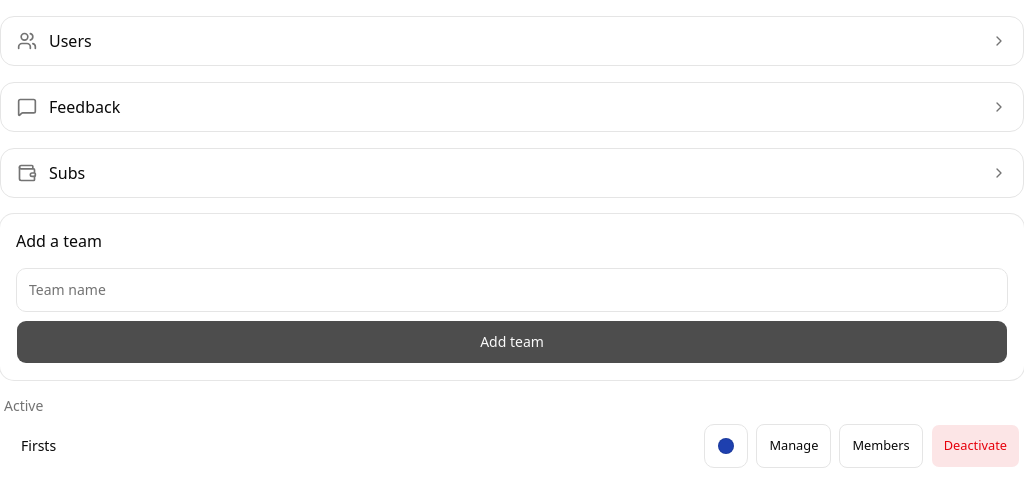
Test case: rename (AC5) › Escape restores the previous name and sends no mutation
Click the button "Firsts" at (39, 446), box [4, 424, 696, 468]
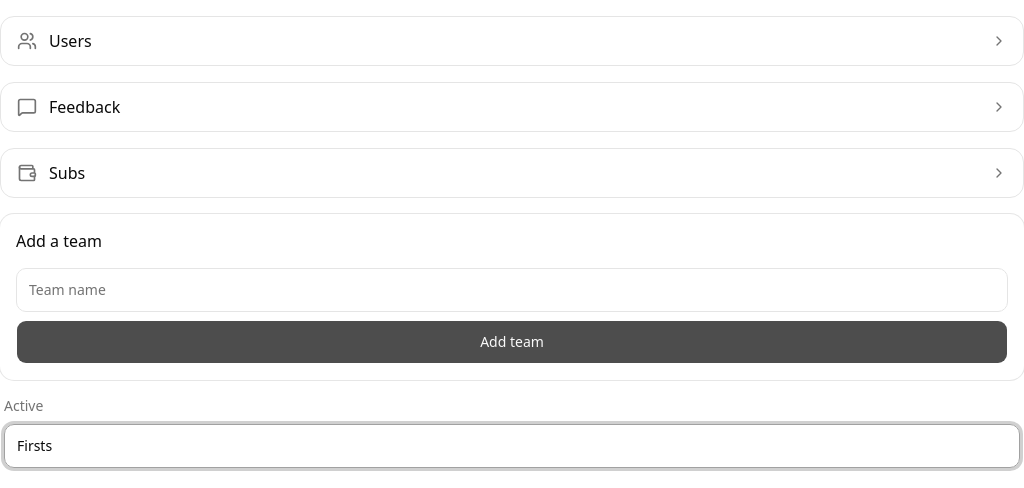
Replace the text in the field named "rename firsts" with "Changed" at (512, 446), box [4, 424, 1020, 468]
Then press Escape
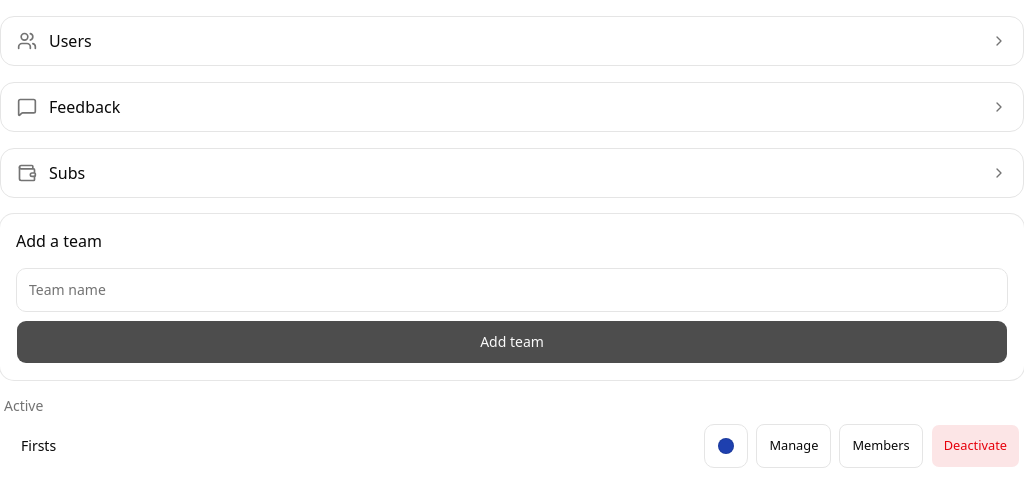
Result: the button "Firsts" is shown at [4, 424, 696, 468]
